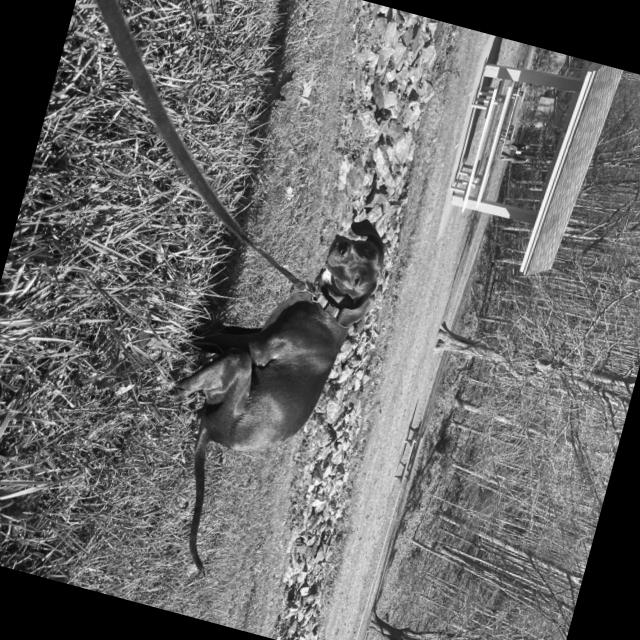squatting: (136, 169, 407, 525)
